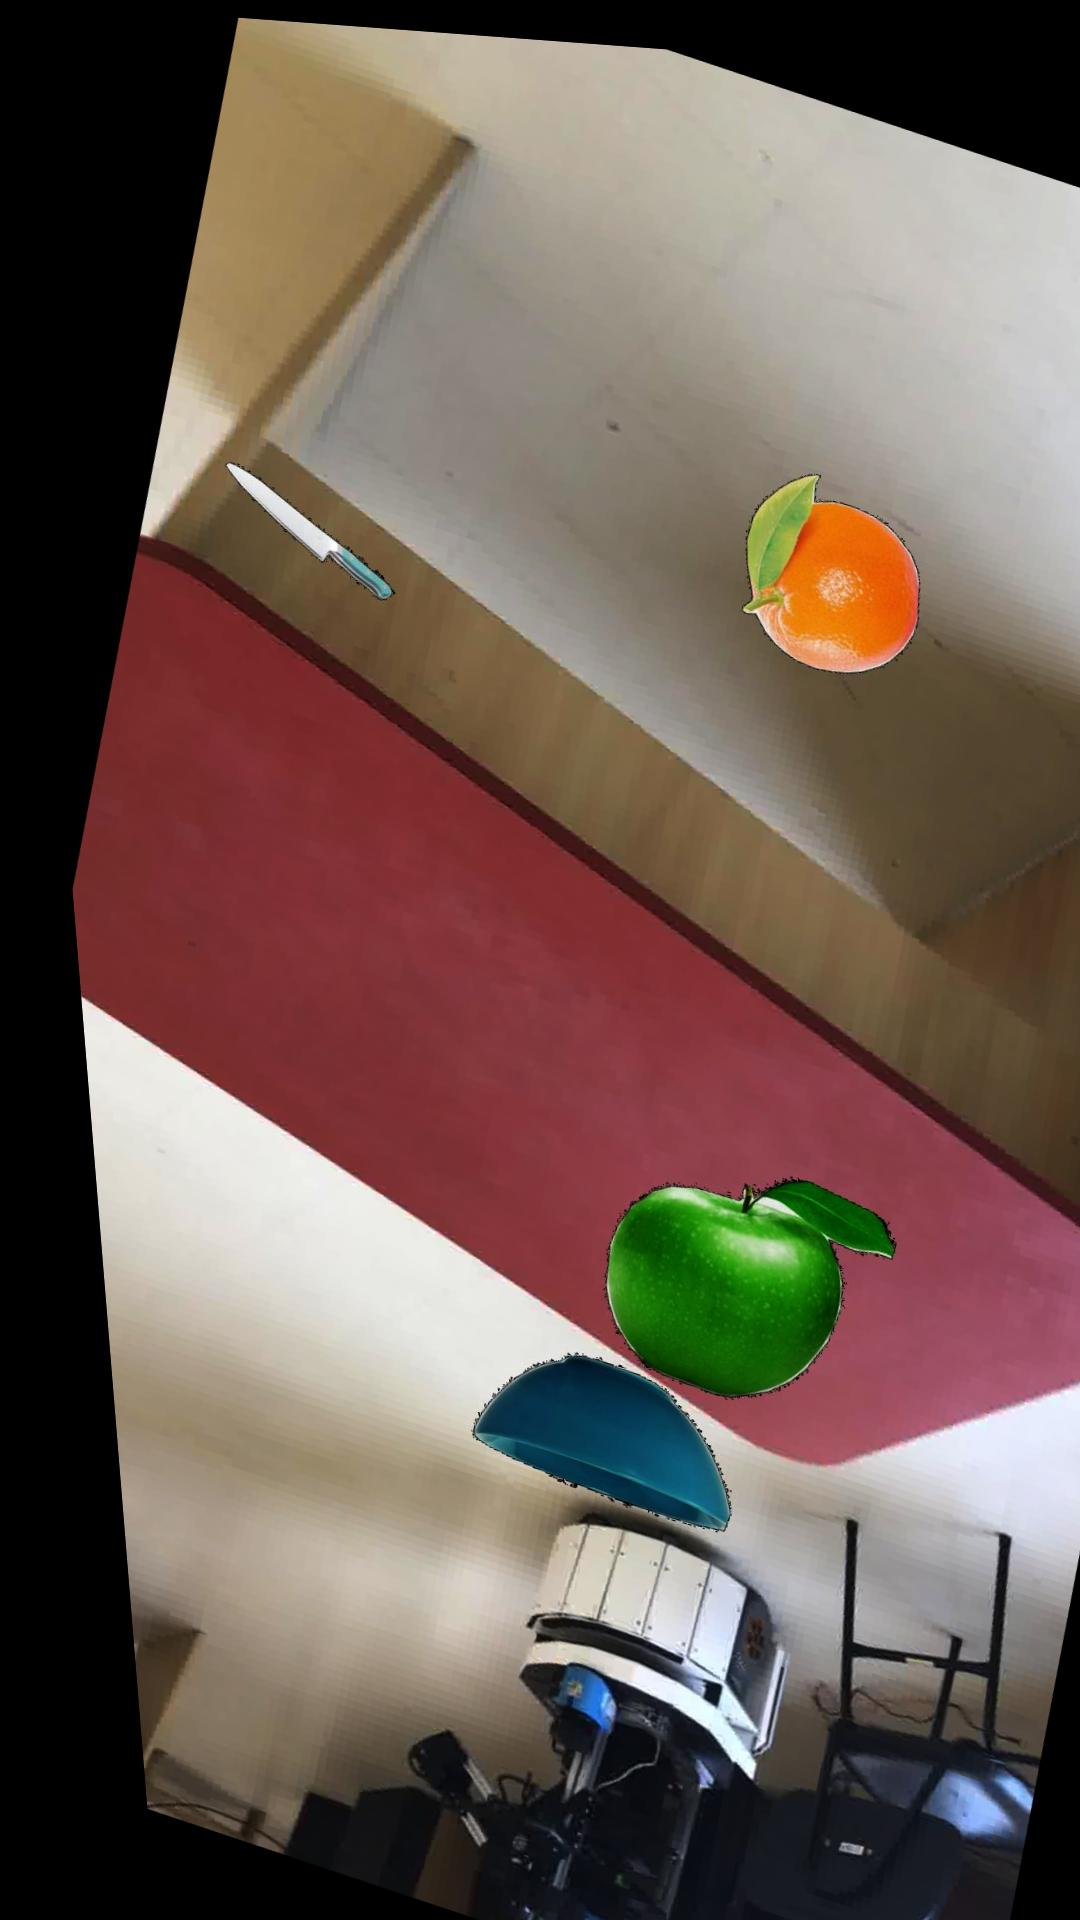bowl: (450, 1350, 707, 1523)
green apple: (584, 1170, 876, 1390)
knife: (219, 462, 386, 596)
orange: (733, 464, 913, 663)
